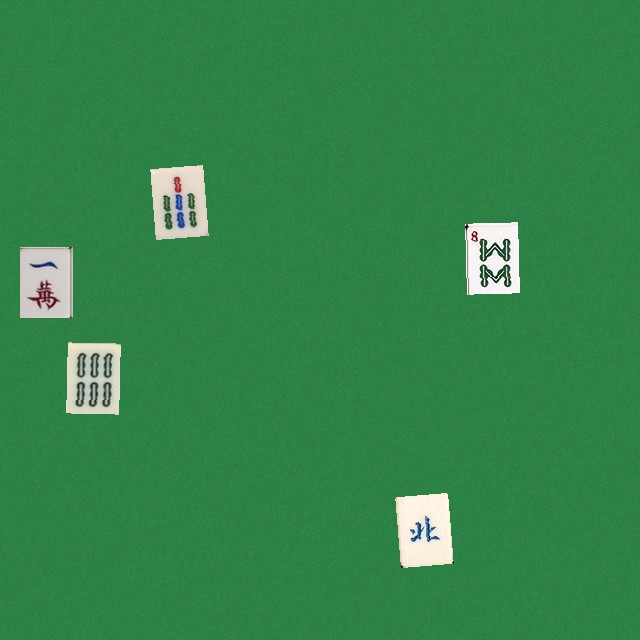tile: (19, 246, 72, 317), (150, 165, 203, 236), (395, 492, 448, 563), (465, 222, 518, 293), (66, 342, 119, 413)
